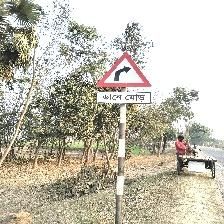Right-turn: (96, 52, 153, 105)
